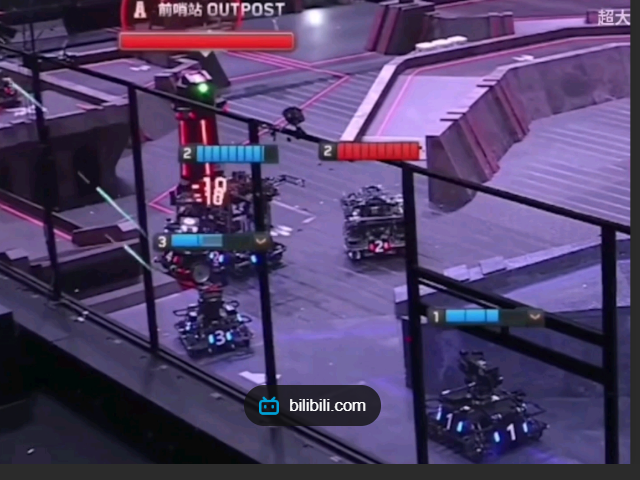rm: (429, 350, 543, 459), (160, 172, 279, 276), (175, 279, 253, 358), (344, 188, 405, 262)
